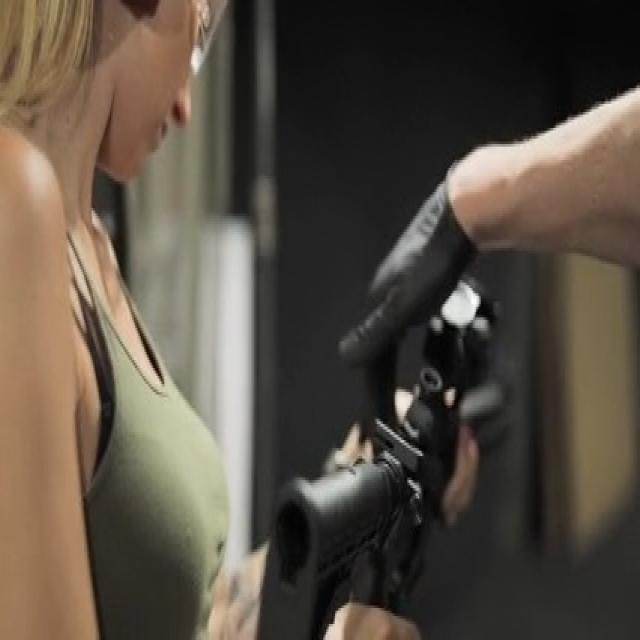Gun_Holder: (238, 280, 640, 640)
Person: (0, 0, 285, 640)
